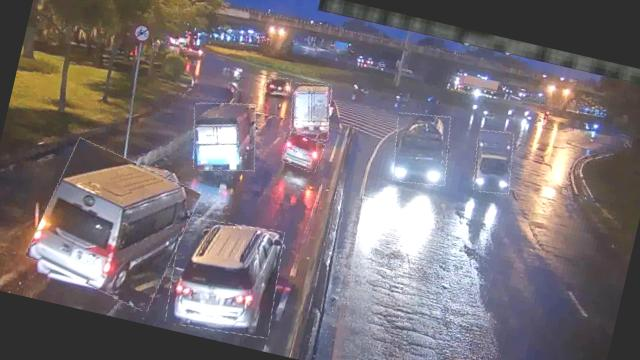Bus: (26, 138, 200, 310)
Car: (160, 212, 290, 342), (280, 132, 326, 174), (264, 74, 292, 98)
Truck: (183, 95, 264, 180), (386, 108, 457, 190), (468, 128, 520, 198), (284, 80, 338, 144)
